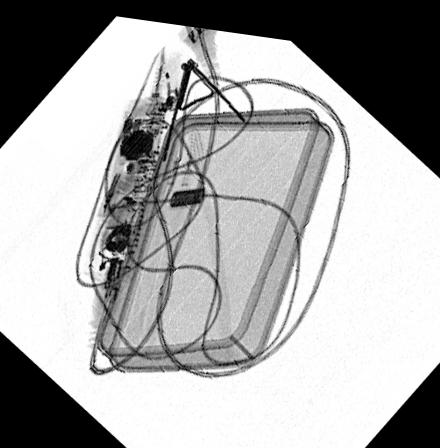Lighter: (88, 255, 124, 347)
